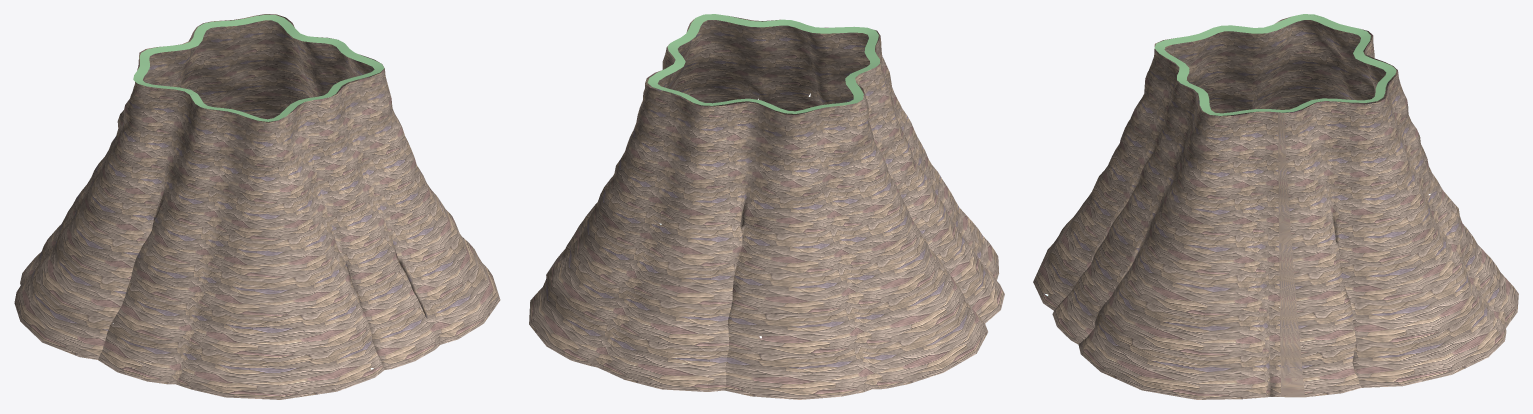
Rendered from CliffWall_stack_07.glb.
The picture shows the model from 3 angles, left to right: view 1: azimuth 30°, elevation 25°; view 2: azimuth 150°, elevation 25°; view 3: azimuth 270°, elevation 25°; orthographic projection. The views are drawn at different scales.
Parts seen in each view (by area): view 1: CliffWall_stack_07-rock0, CliffWall_stack_07-lip0; view 2: CliffWall_stack_07-rock0, CliffWall_stack_07-lip0; view 3: CliffWall_stack_07-rock0, CliffWall_stack_07-lip0.
Part boxes in pixels (x1,y1,x2,y2): CliffWall_stack_07-rock0: [14, 14, 500, 399]; CliffWall_stack_07-lip0: [133, 14, 384, 121]; CliffWall_stack_07-rock0: [529, 16, 1004, 399]; CliffWall_stack_07-lip0: [647, 14, 880, 113]; CliffWall_stack_07-rock0: [1033, 17, 1518, 399]; CliffWall_stack_07-lip0: [1154, 14, 1396, 115].
Bounding box in the file's own units: 416 × 223 × 419.
4 materials, 1 textured.
